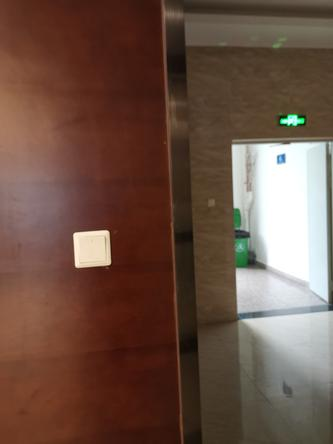switch: (74, 234, 114, 264)
